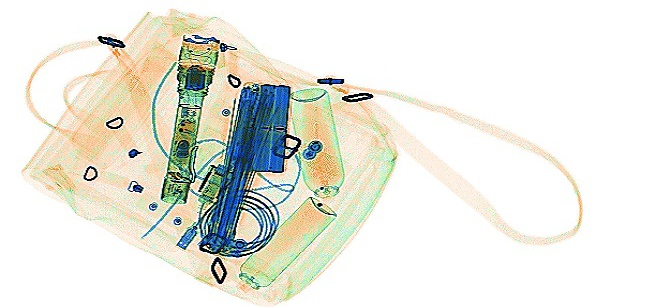powerbank: (234, 77, 292, 175)
pressure: (231, 194, 338, 294), (285, 83, 346, 215)
